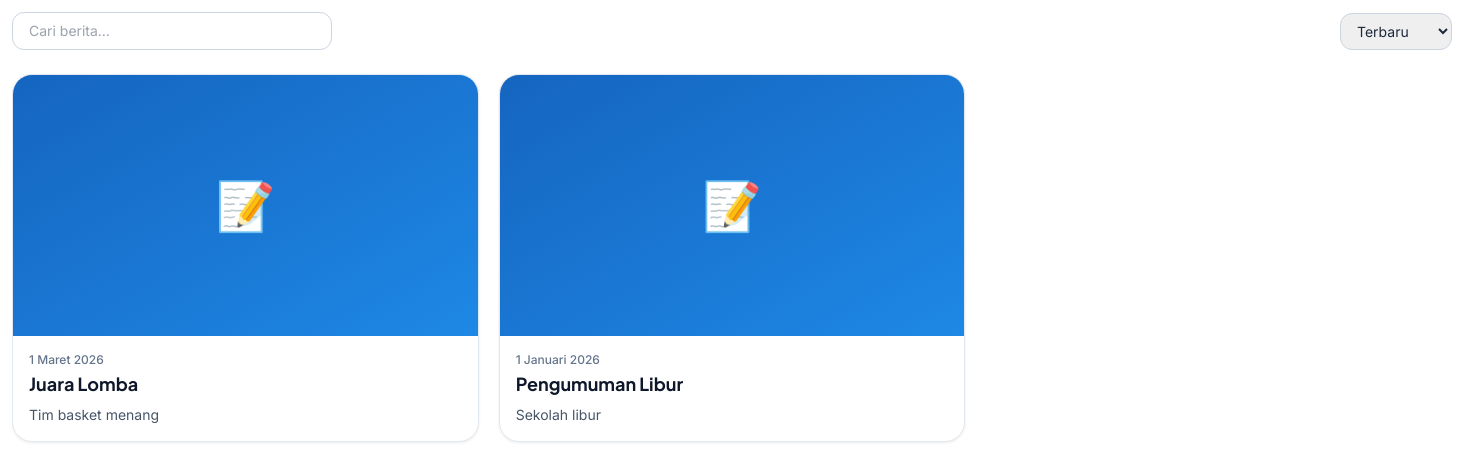
it: MadingList › filters by title or body via search
The width and height of the screenshot is (1464, 460).
Type "basket" into the search field at [172, 31], box [12,12,332,50]
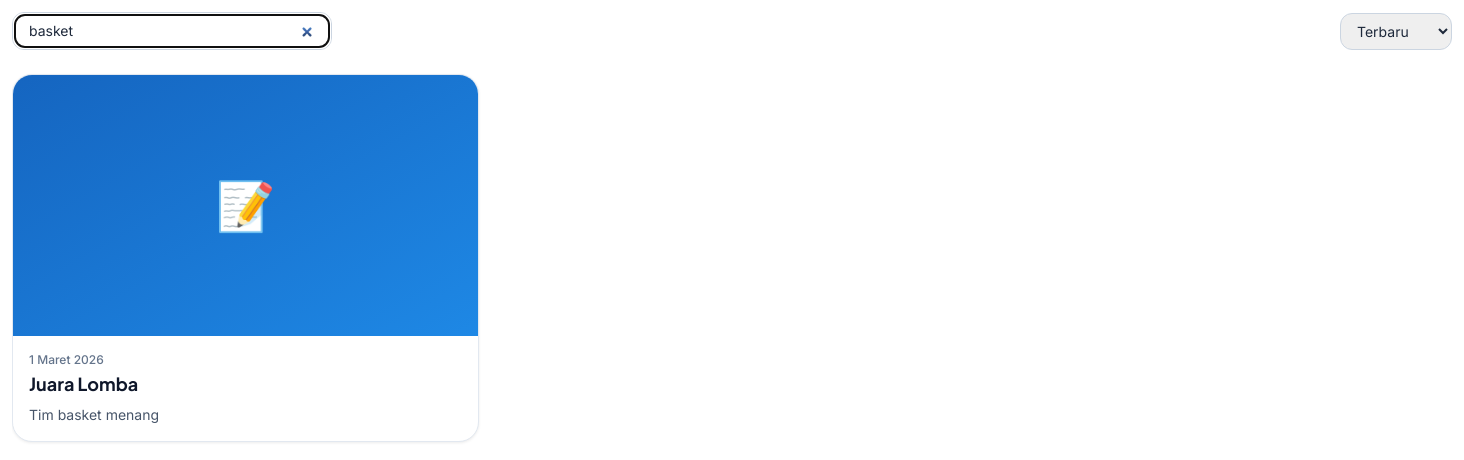
Expected: the heading "Juara Lomba" is shown, [29,372,138,395]
Result: the link "Pengumuman Libur" is gone
